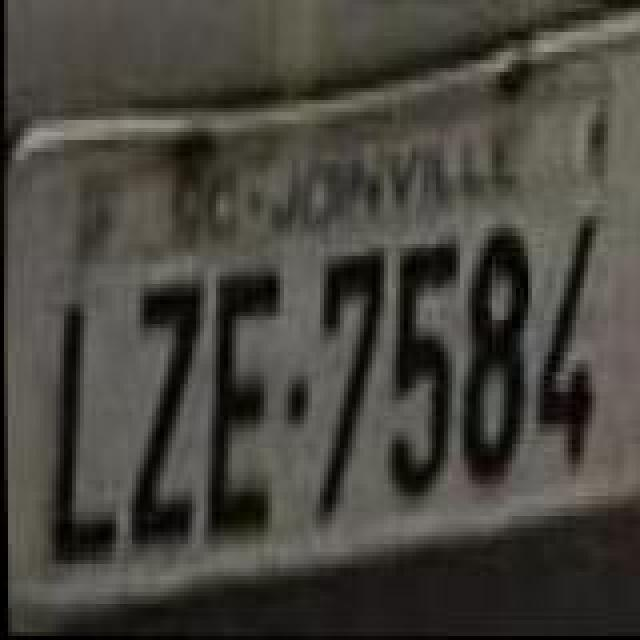4: (524, 210, 604, 470)
5: (386, 238, 470, 506)
7: (310, 240, 390, 532)
8: (454, 222, 538, 490)
E: (200, 262, 284, 554)
L: (44, 302, 124, 570)
Z: (126, 280, 206, 548)
